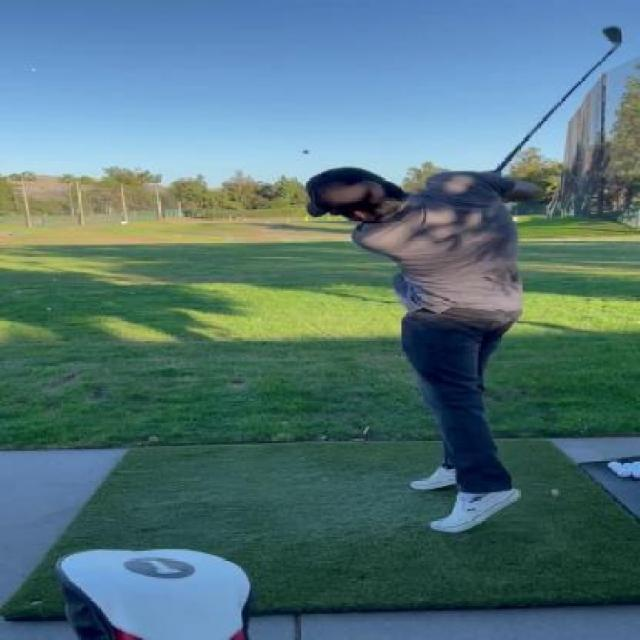club head: (595, 24, 630, 59)
